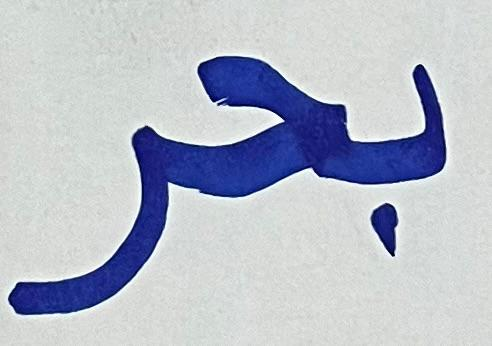beh: (354, 59, 462, 260)
hah: (176, 35, 351, 201)
reh: (4, 123, 172, 319)
